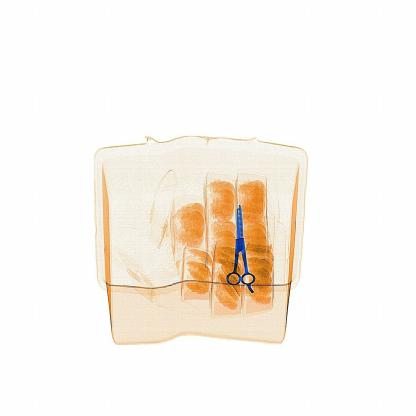gun: (214, 187, 262, 301)
